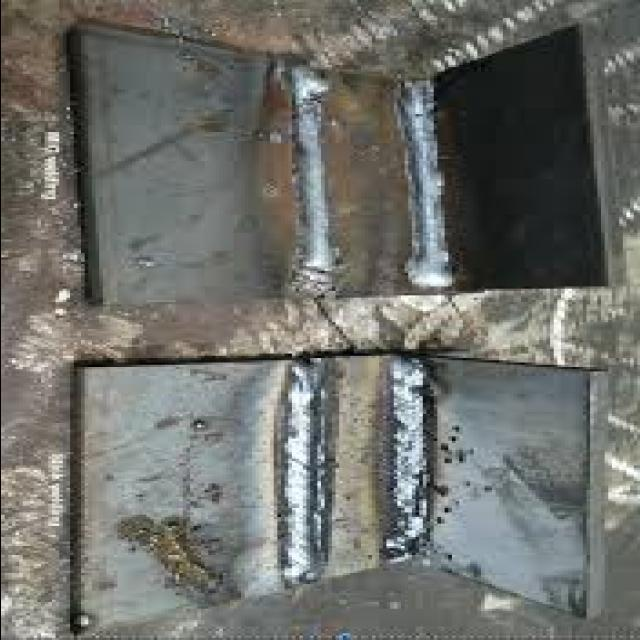Dry: (280, 354, 342, 582), (378, 354, 436, 556), (290, 63, 338, 291), (404, 78, 452, 282)
